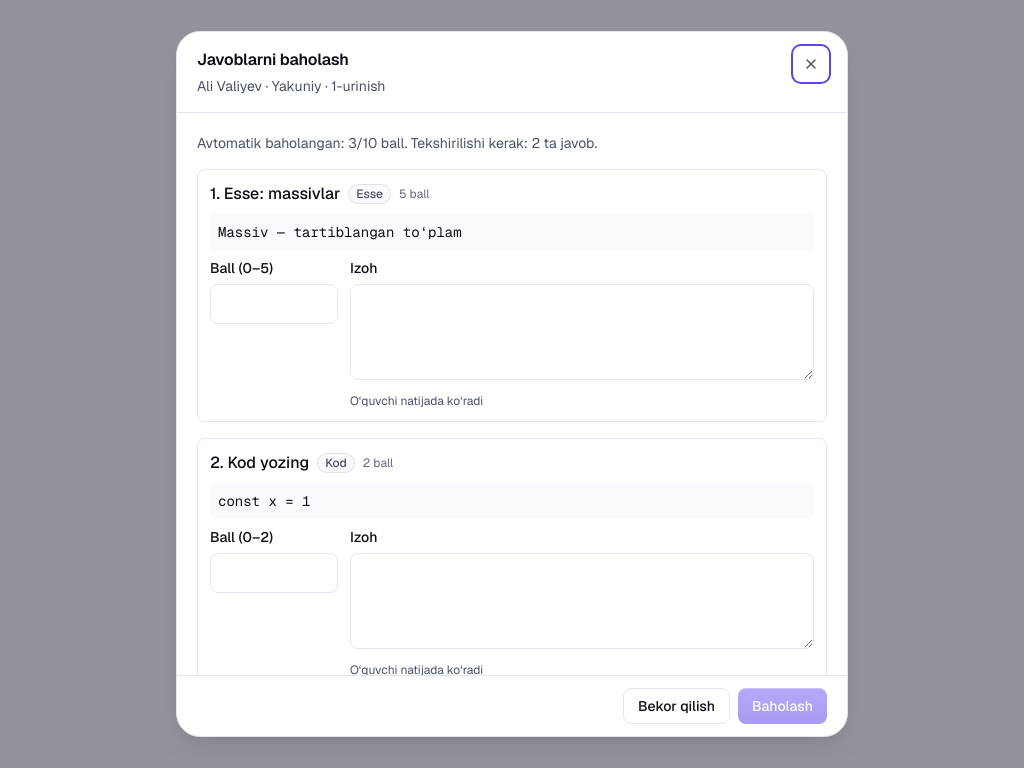
AttemptReviewModal (qo‘lda baholash, TZ §65) › ball bo‘sh yoki savol balidan katta bo‘lsa baholab bo‘lmaydi
Expected: the button "Baholash" is disabled, [738,688,827,724]
Type "6" into the field labelled "Ball (0–5)" at (274, 304), box [210,284,338,324]
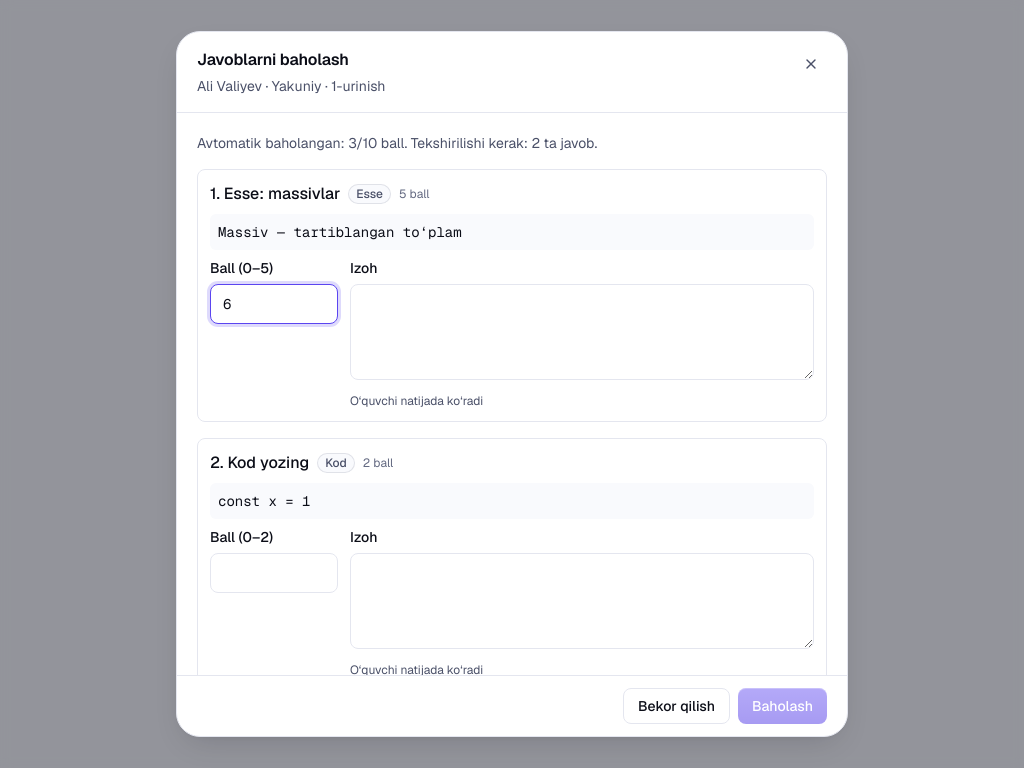
Type "2" into the field labelled "Ball (0–2)" at (274, 573), box [210,553,338,593]
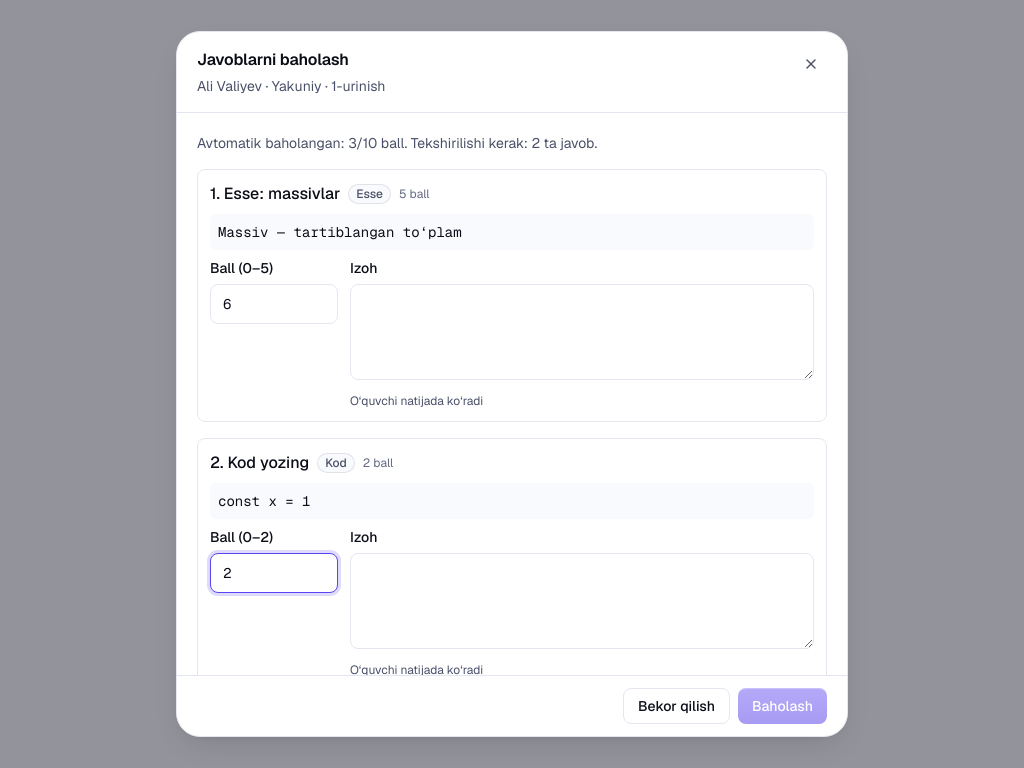
Expected: the button "Baholash" is disabled, [738,688,827,724]
Replace the text in the field labelled "Ball (0–5)" with "4" at (274, 304), box [210,284,338,324]
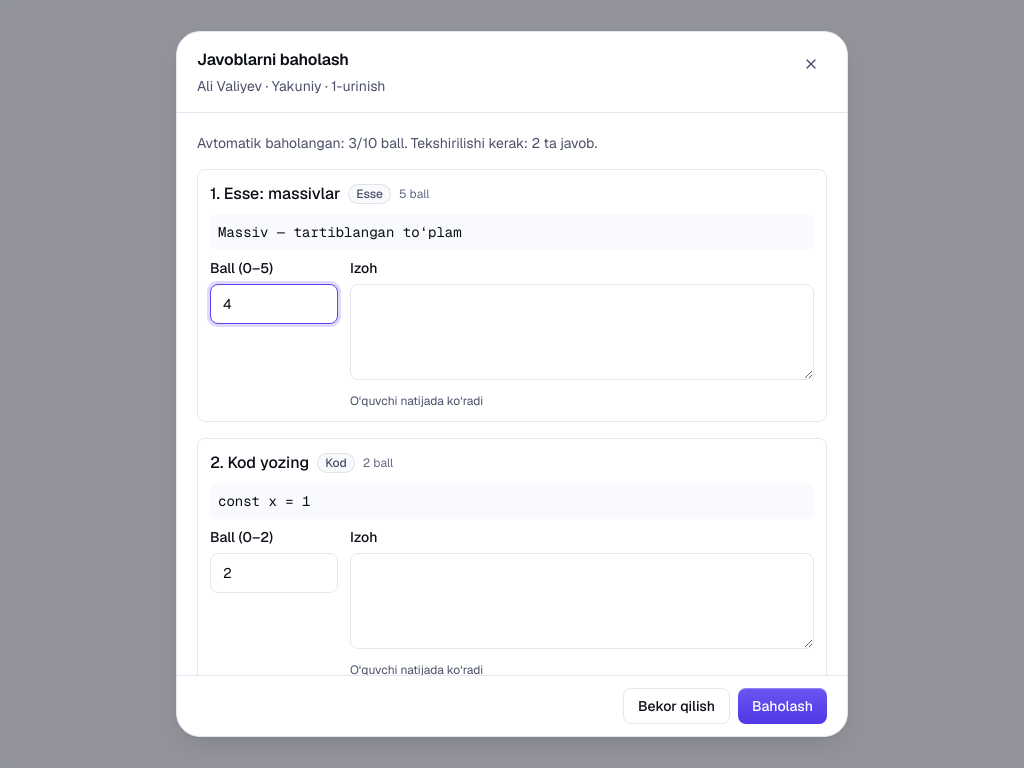
Expected: the button "Baholash" is enabled, [738,688,827,724]
